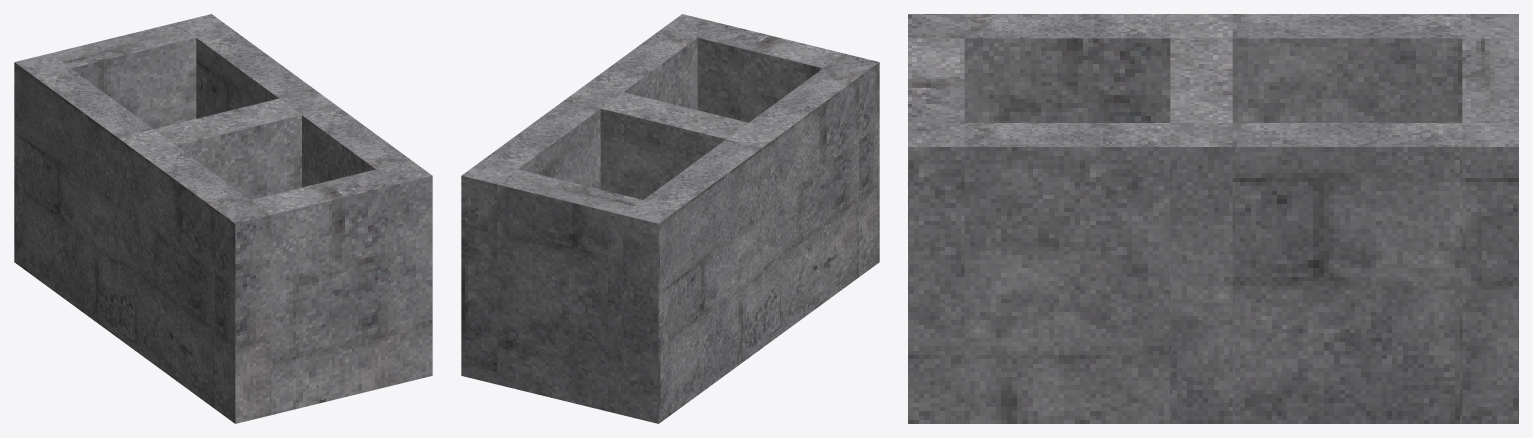
The model's file is RockBlock.glb.
The picture shows the model from 3 angles, left to right: view 1: azimuth 30°, elevation 25°; view 2: azimuth 150°, elevation 25°; view 3: azimuth 270°, elevation 25°; orthographic projection. The views are drawn at different scales.
Parts seen in each view (by area): view 1: mesh; view 2: mesh; view 3: mesh.
Part boxes in pixels (bbox=[...]): mesh: bbox=[14, 14, 432, 423]; mesh: bbox=[461, 14, 879, 423]; mesh: bbox=[908, 14, 1518, 423].
Bounding box in the file's own units: 0.2578 × 0.25 × 0.5.
Materials: 1 (1 with a texture image).
